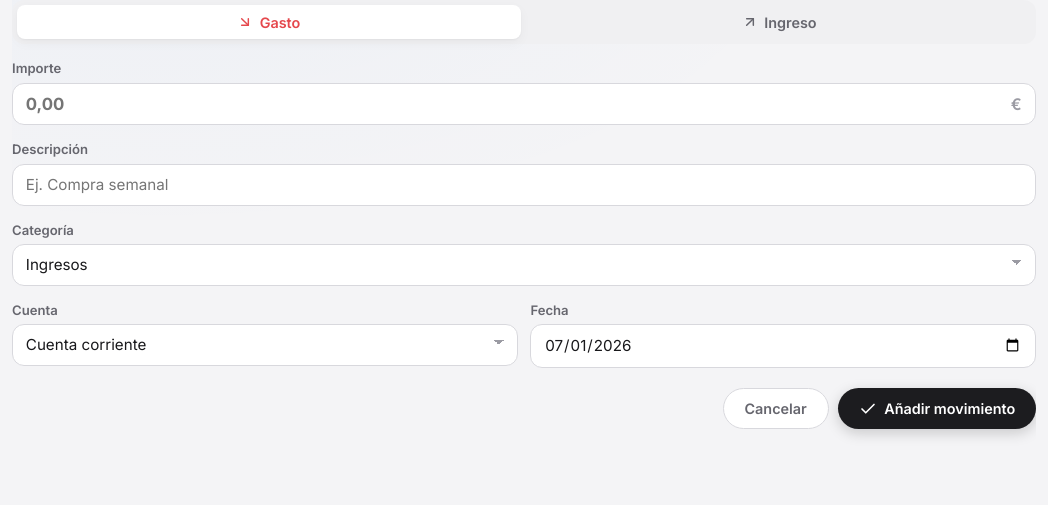
Scenario: TransactionForm › rejects submission without a description
In the field with placeholder "0,00": (524, 104) [12,83,1036,125], type "50"
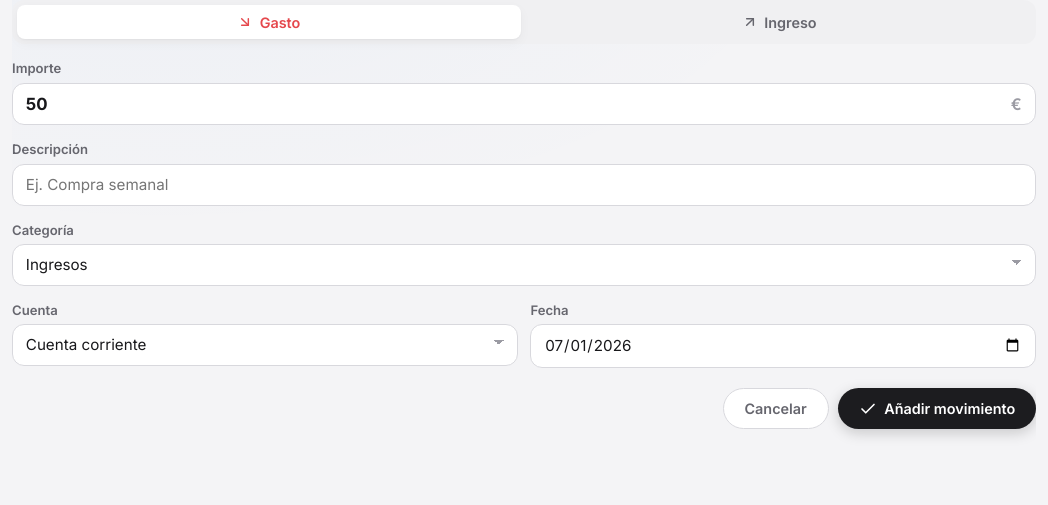
Click the button "Añadir movimiento": (937, 409) [838,388,1036,429]
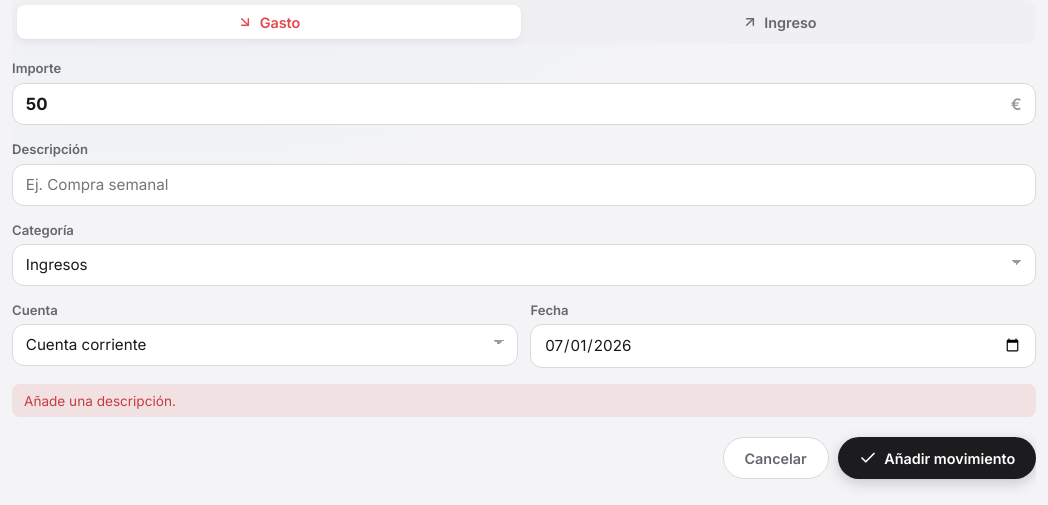
Result: the text "Añade una descripción." is shown at [12,384,1036,418]
